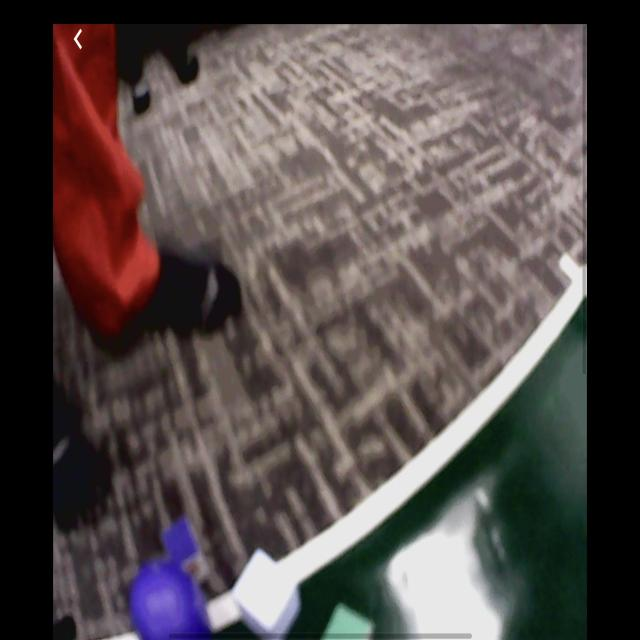ball: (131, 560, 203, 638)
